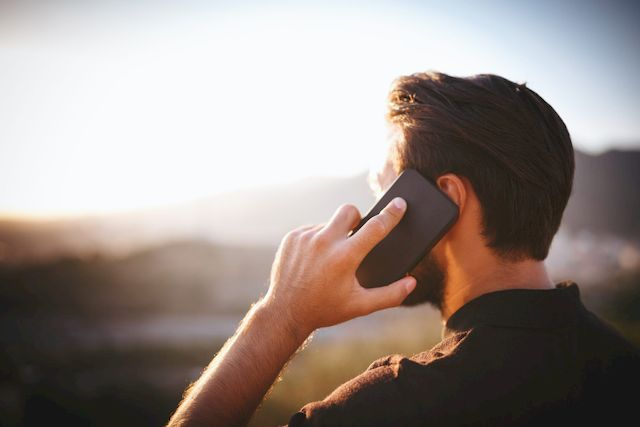phone: (322, 162, 453, 297)
